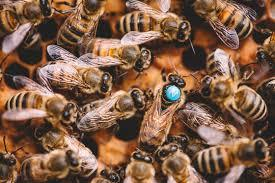Queen-Bee: (135, 71, 198, 148)
worker-bee: (200, 68, 272, 122), (190, 135, 275, 179), (78, 88, 152, 134), (194, 1, 264, 44), (2, 90, 83, 127), (40, 56, 113, 94), (115, 6, 192, 42), (55, 0, 108, 50), (88, 38, 159, 70)
